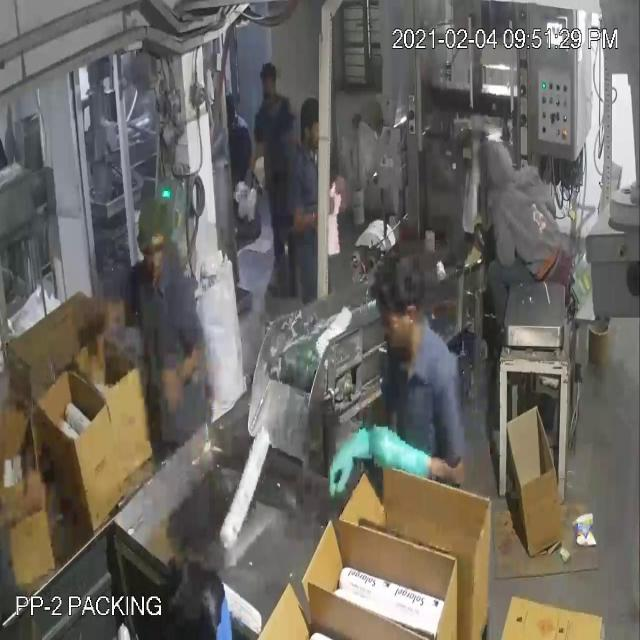Gloves: (28, 52, 399, 506)
